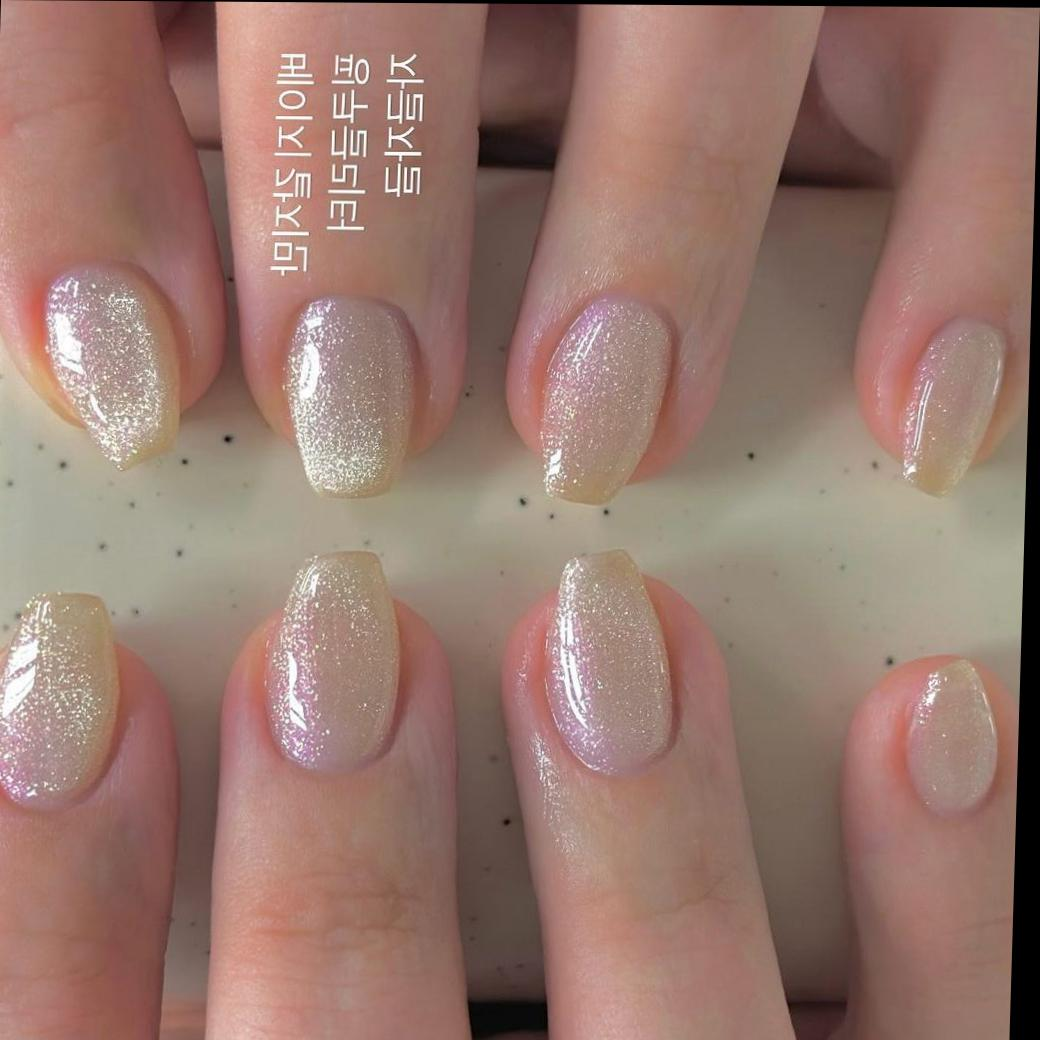nail: (537, 547, 682, 777), (257, 548, 404, 774), (35, 258, 185, 471), (534, 293, 676, 506), (276, 292, 420, 499), (0, 589, 122, 809), (894, 315, 1007, 498), (899, 657, 1003, 818)
